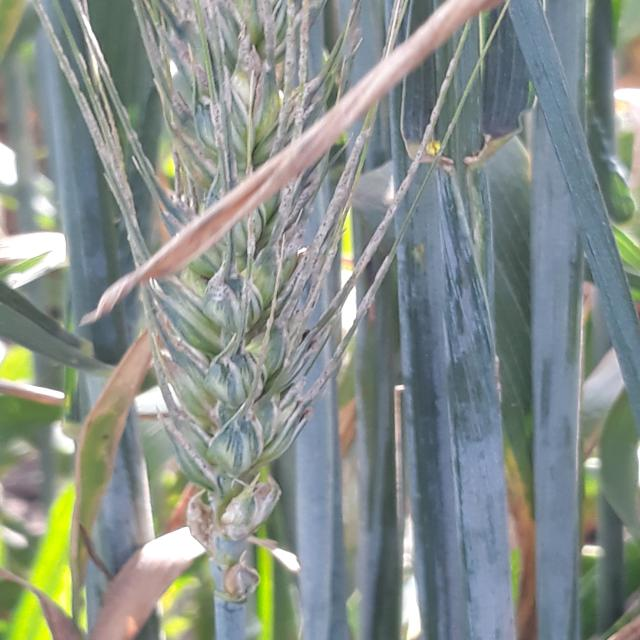powder_mildew: (43, 0, 384, 640)
